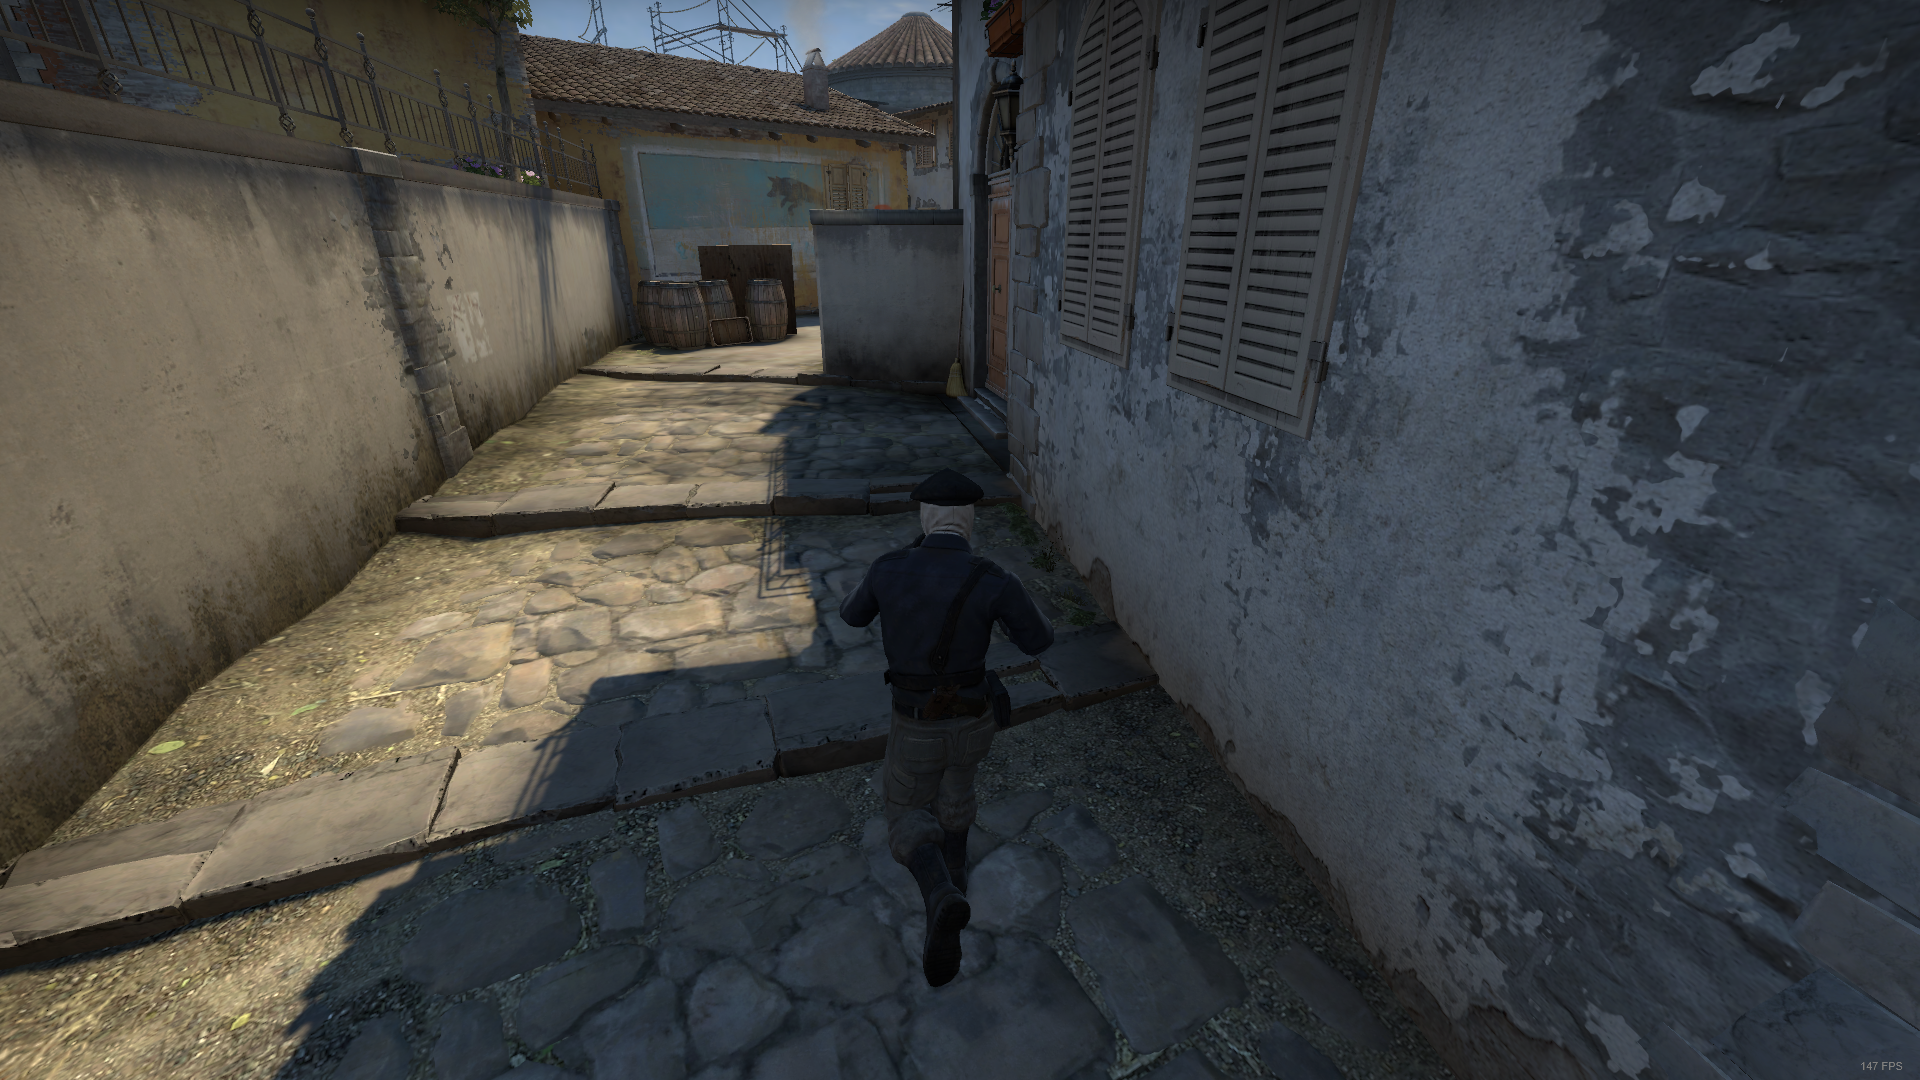t: (831, 450, 1065, 1004)
